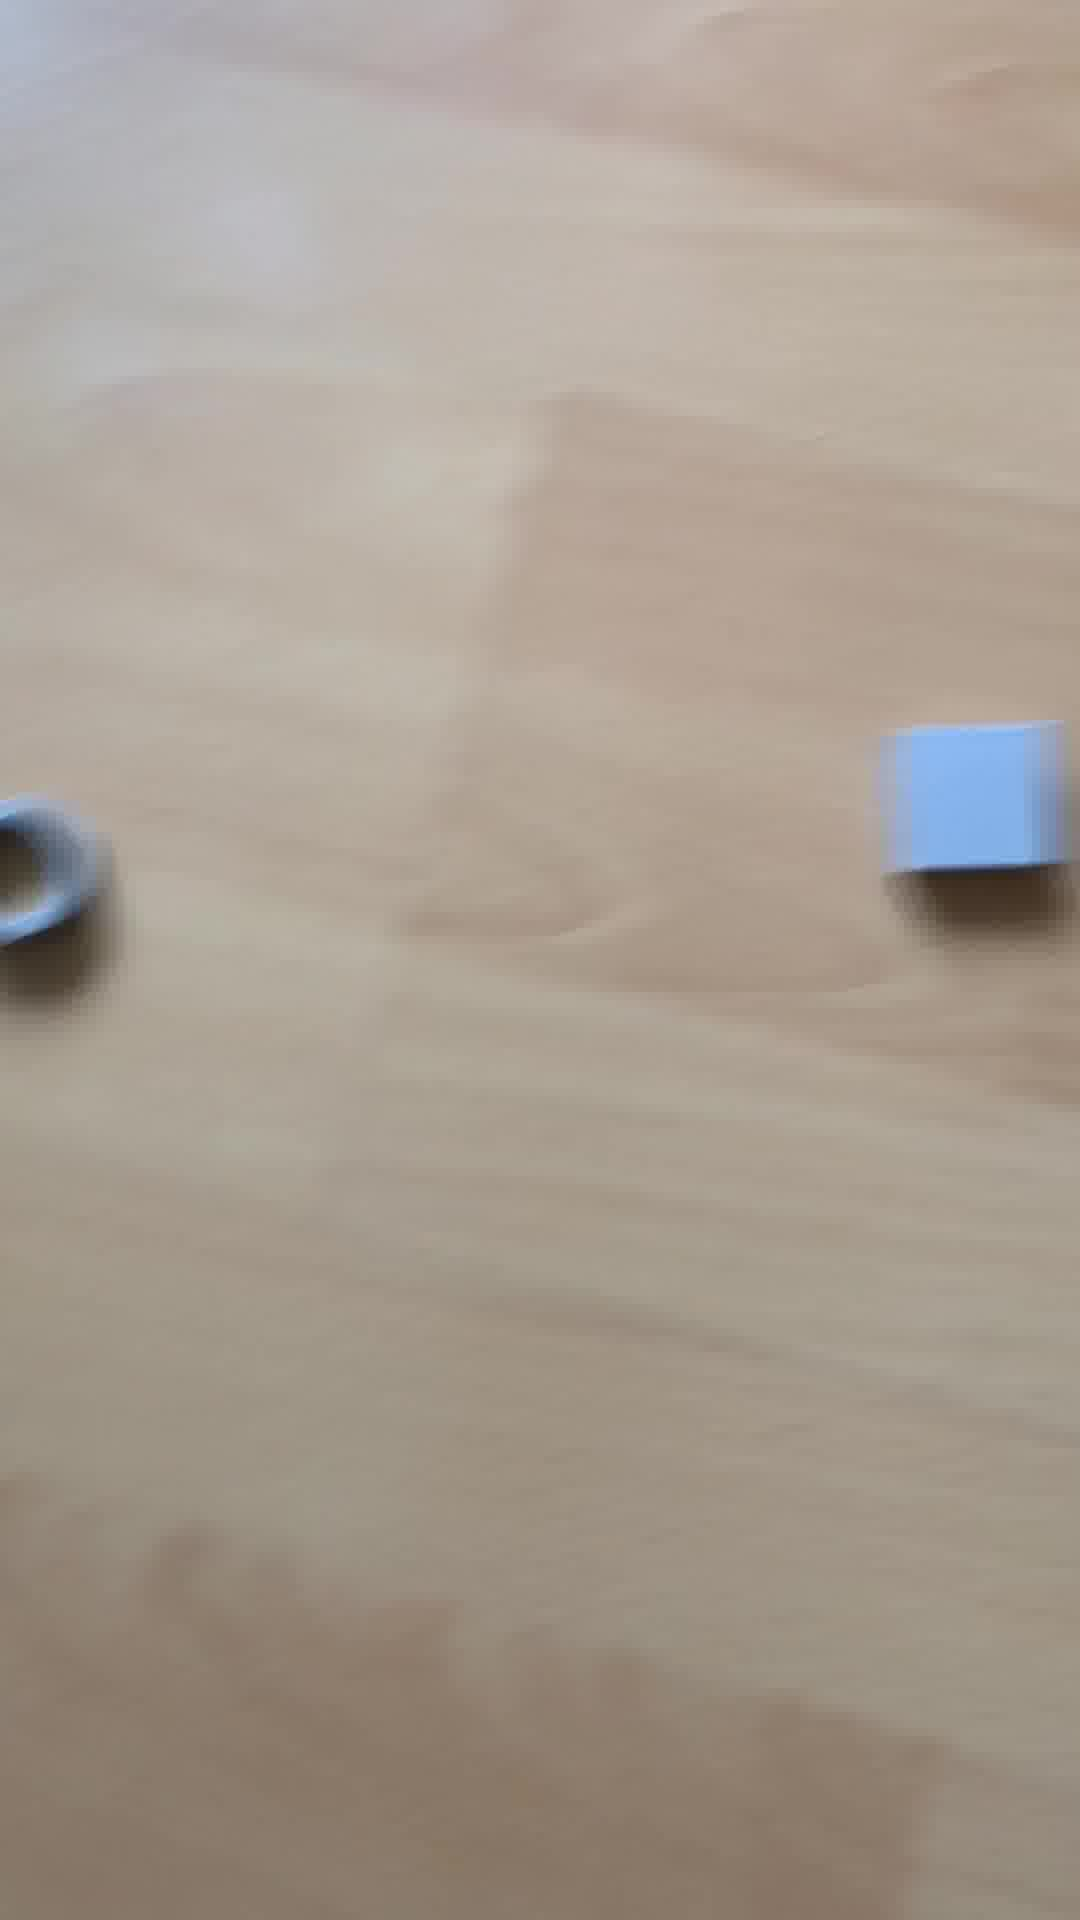Gray ring: (1, 796, 115, 981)
Gray square: (876, 716, 1068, 903)
